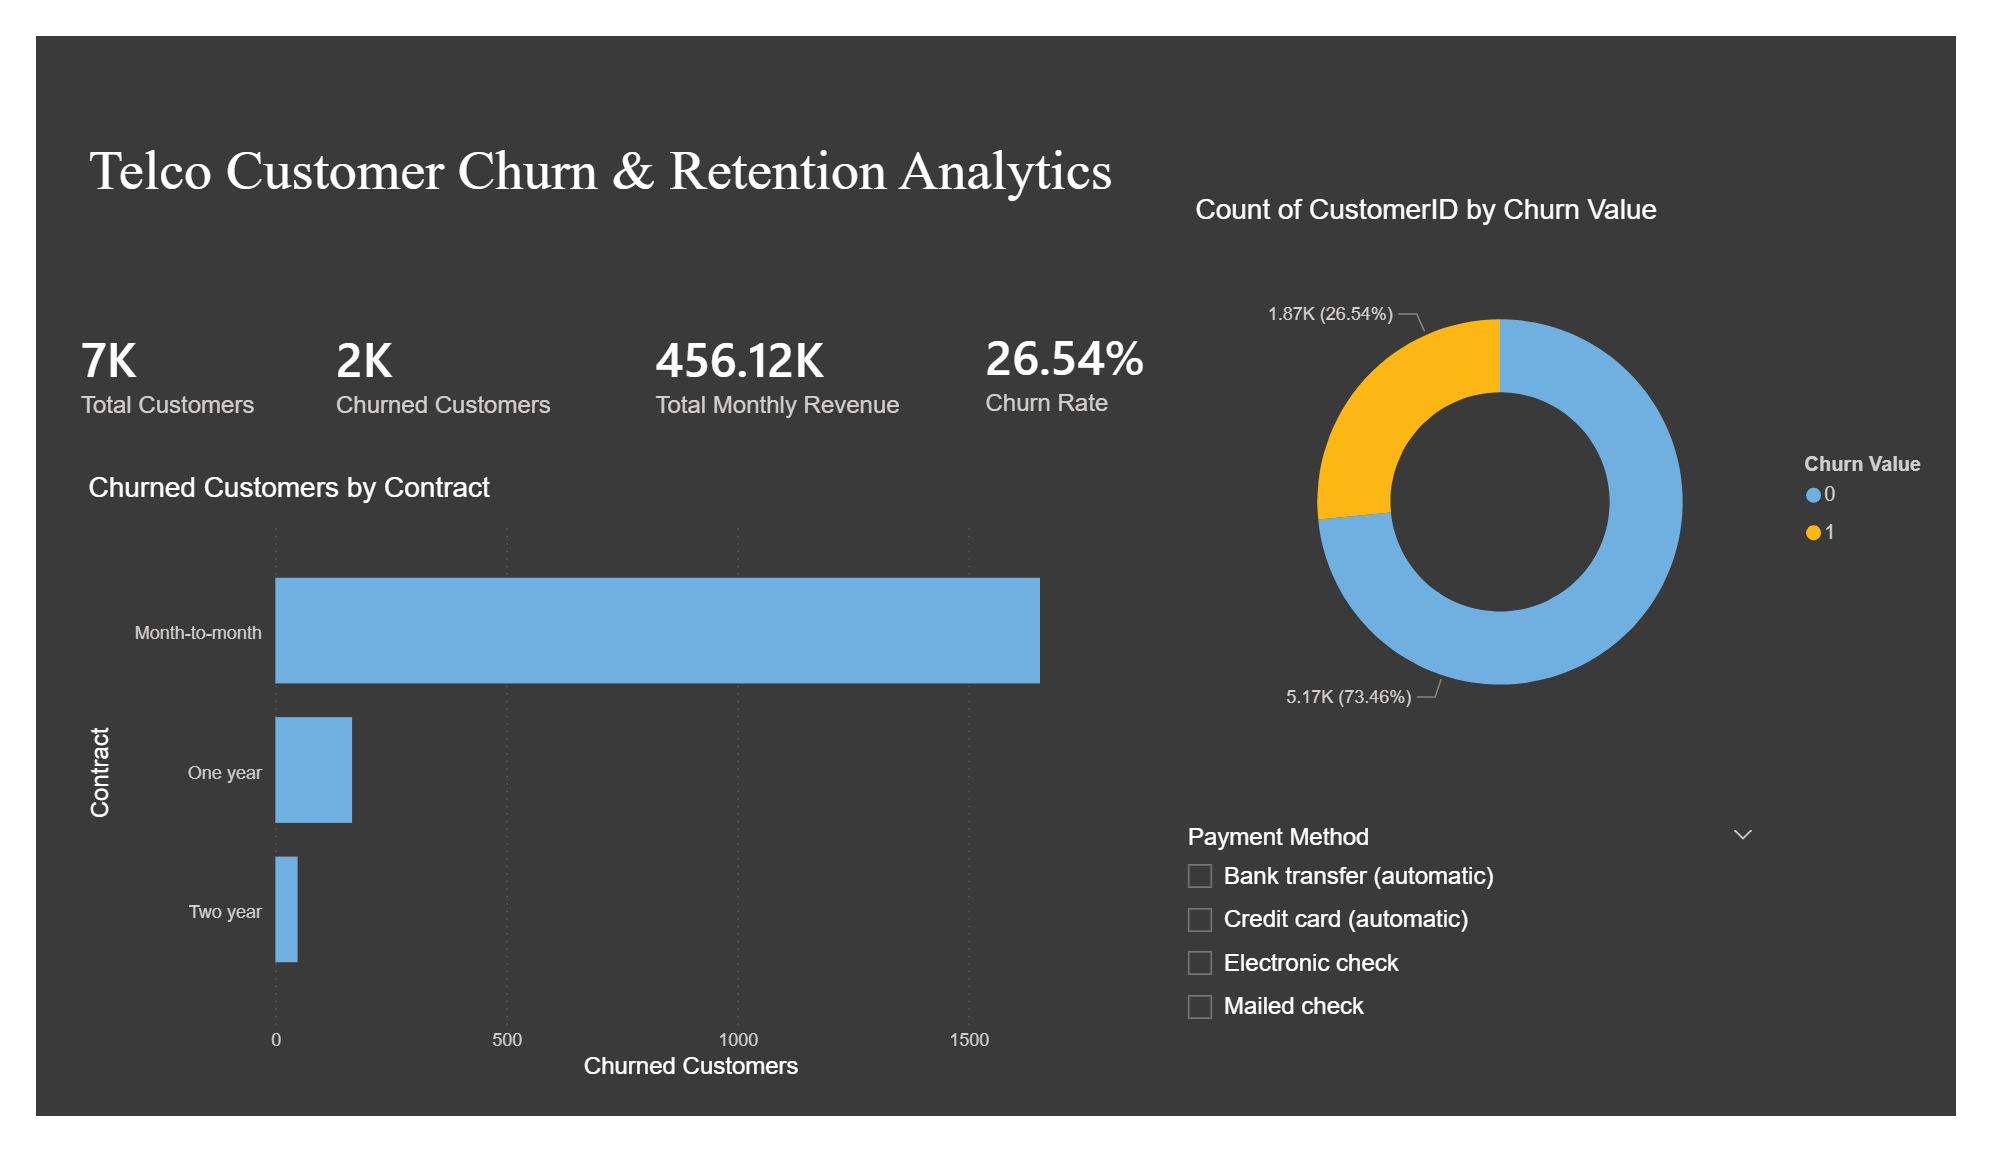

What the dashboard file says about the page in this screenshot:
{"tool":"powerbi","page":{"name":"Page 1","canvas":[1280,720],"ordinal":0},"visuals":[{"type":"cardVisual","fields":{"Data":["Telco_customer_churn.Total Customers"]},"box":[0,133.3,211.7,180],"z":0},{"type":"cardVisual","fields":{"Data":["Telco_customer_churn.Total Monthly Revenue"]},"box":[383.3,125,256.7,196.7],"z":1000},{"type":"cardVisual","fields":{"Data":["Telco_customer_churn.Churn Rate"]},"box":[603.3,128.3,165,188.3],"z":2000},{"type":"cardVisual","fields":{"Data":["Telco_customer_churn.Churned Customers"]},"box":[170,125,233.3,196.7],"z":3000},{"type":"clusteredBarChart","fields":{"Category":["Telco_customer_churn.Contract"],"Y":["Telco_customer_churn.Churned Customers"]},"box":[30,290,703.3,410],"z":4000},{"type":"slicer","fields":{"Values":["Telco_customer_churn.Payment Method"]},"box":[755,520,401.7,200],"z":6000},{"type":"textbox","box":[30,48.3,703.3,110],"z":7000},{"type":"donutChart","fields":{"Category":["Telco_customer_churn.Churn Value"],"Y":["CountNonNull(Telco_customer_churn.CustomerID)"]},"box":[768.3,105,511.7,390],"z":7001}]}

Visuals, with their boxes in screenshot pixels (x1, y1, x2, y2), scaled from the page's 1280x720 canvas onto the 1992x1152 screenshot:
cardVisual - Telco_customer_churn.Total Customers: <box>0,213,329,501</box>
cardVisual - Telco_customer_churn.Total Monthly Revenue: <box>597,200,996,515</box>
cardVisual - Telco_customer_churn.Churn Rate: <box>939,205,1196,507</box>
cardVisual - Telco_customer_churn.Churned Customers: <box>265,200,628,515</box>
clusteredBarChart - Telco_customer_churn.Contract x Telco_customer_churn.Churned Customers: <box>47,464,1141,1120</box>
slicer - Telco_customer_churn.Payment Method: <box>1175,832,1800,1151</box>
textbox: <box>47,77,1141,253</box>
donutChart - Telco_customer_churn.Churn Value x CountNonNull(Telco_customer_churn.CustomerID): <box>1196,168,1991,792</box>
